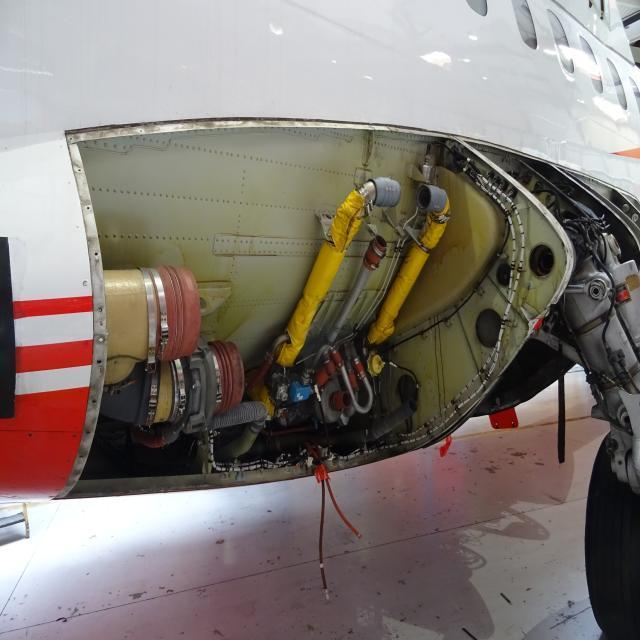Missing Fastener: (91, 330, 111, 350), (86, 244, 102, 266), (74, 156, 86, 178), (93, 304, 109, 320), (82, 198, 95, 214), (74, 448, 86, 464), (83, 426, 95, 442), (93, 356, 105, 372), (66, 130, 76, 146), (136, 126, 148, 138), (89, 396, 99, 408)
